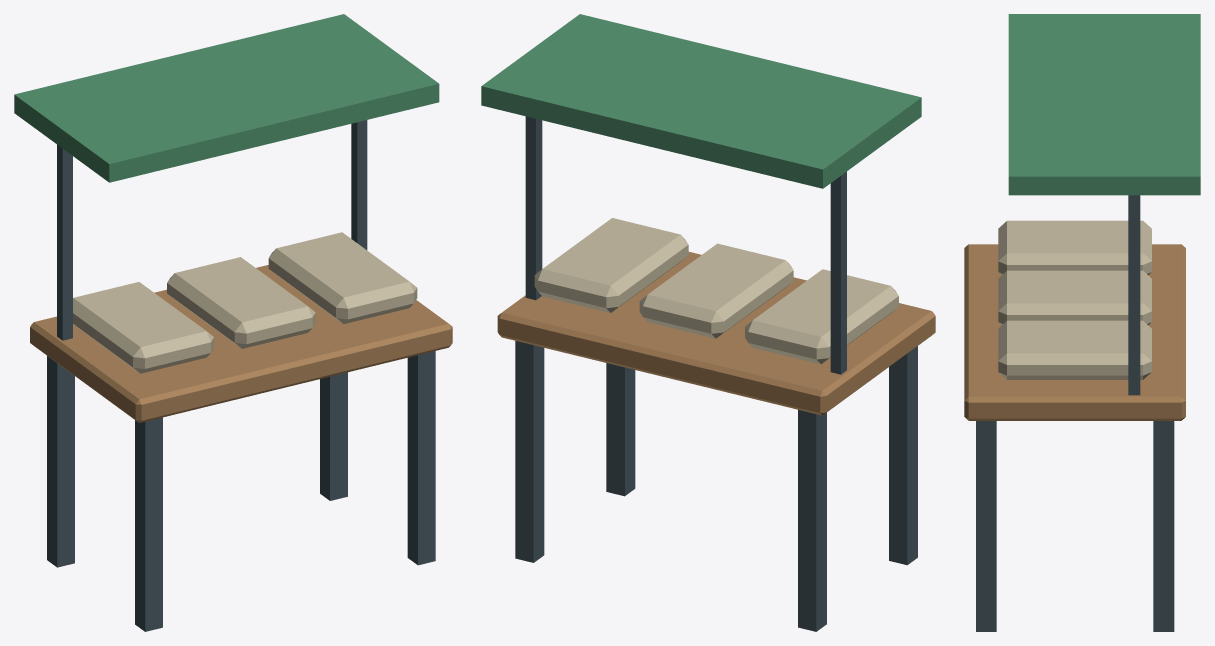
Rendered from food_service_counter.glb.
3 views of the same model, side by side, from view 1: azimuth 30°, elevation 25°; view 2: azimuth 150°, elevation 25°; view 3: azimuth 270°, elevation 25° (orthographic). The views are drawn at different scales.
Parts seen in each view (by area): view 1: food_service_counter; view 2: food_service_counter; view 3: food_service_counter.
Part boxes in pixels (box(x1,y1,x2,y2)): food_service_counter: box(14, 14, 452, 631); food_service_counter: box(481, 14, 935, 631); food_service_counter: box(964, 14, 1200, 631).
Size of the model in its own units: 1.3 by 1.74 by 0.8.
